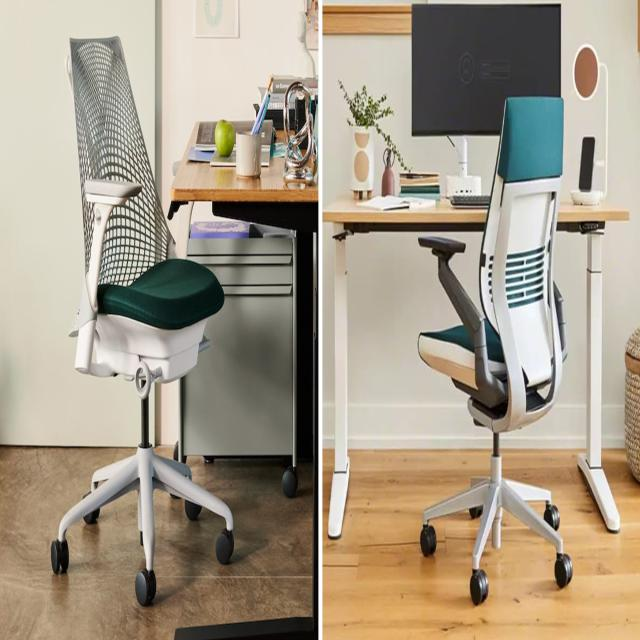chair: (26, 15, 245, 638), (390, 67, 592, 640)
